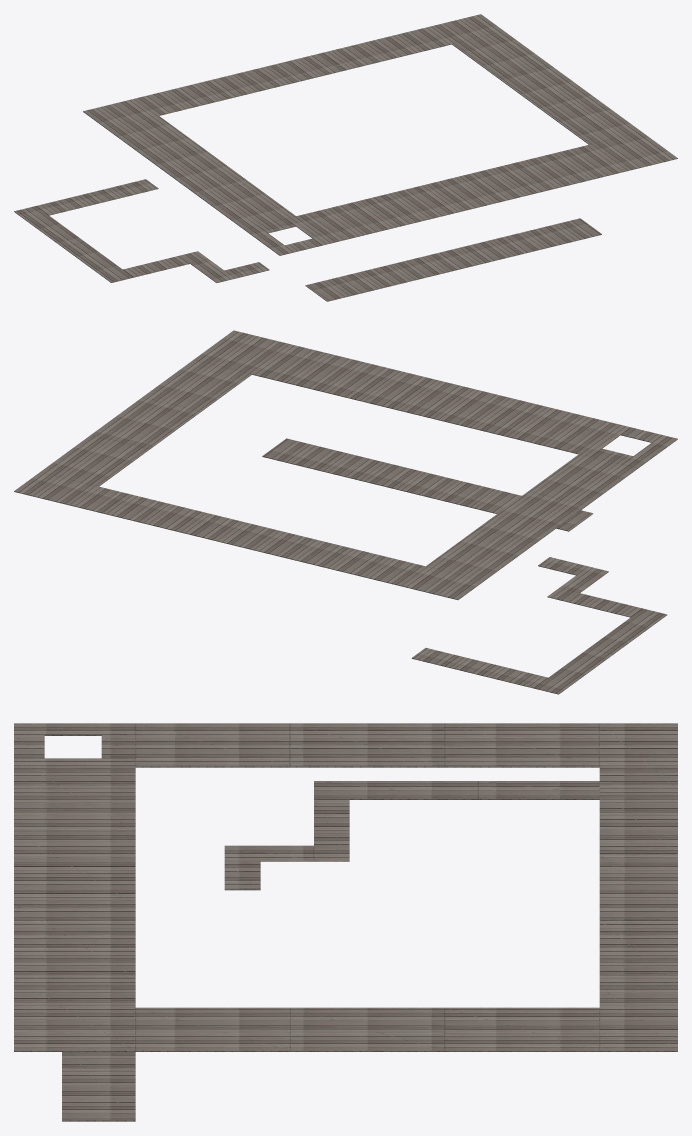
File: suite_soffit.glb
3 renders of one model, top to bottom at view 1: azimuth 30°, elevation 25°; view 2: azimuth 150°, elevation 25°; view 3: azimuth 270°, elevation 25°, orthographic. The views are drawn at different scales.
Parts seen in each view (by area): view 1: suite_soffit; view 2: suite_soffit; view 3: suite_soffit.
Boxes of the visible parts, box(x1,y1,x2,y2) form: suite_soffit: box(14, 14, 677, 301); suite_soffit: box(14, 330, 677, 694); suite_soffit: box(14, 723, 677, 1121).
Size of the model in its own units: 26.06 by 3.83 by 18.61.
1 material, 1 textured.
